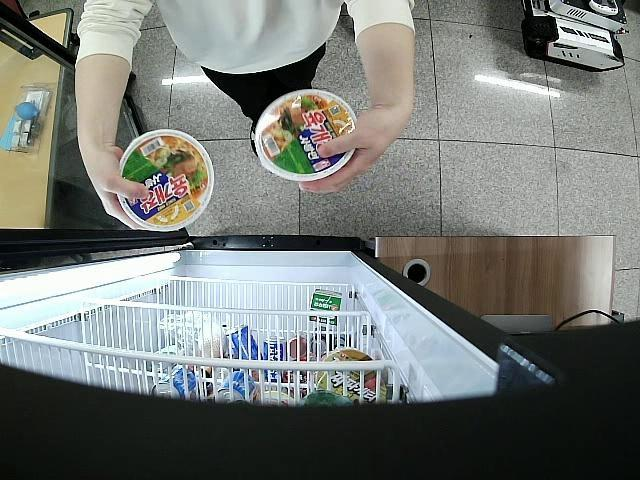09_yukGaeJang: (119, 128, 214, 231), (254, 88, 358, 182)
